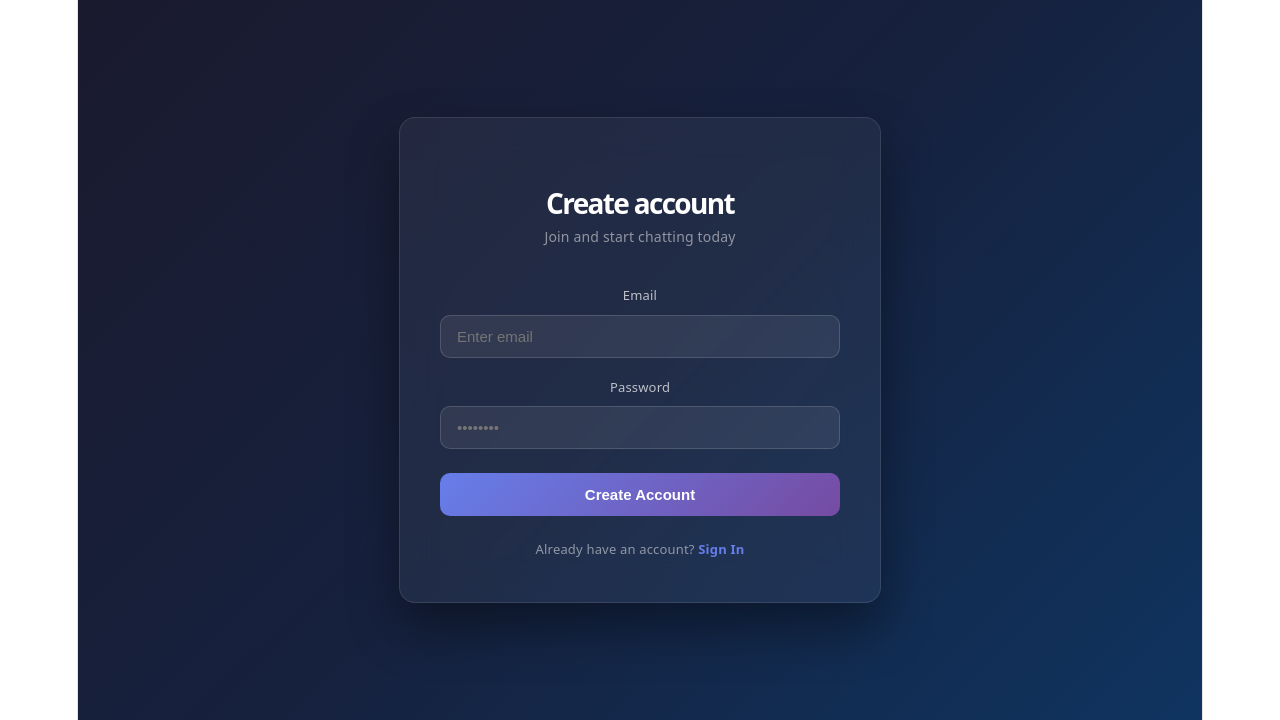
Security Tests › SQL injection: DROP TABLE payload in signup is handled gracefully
This screenshot has width=1280, height=720.
Type "'; DROP TABLE users; --" into the field with placeholder "Enter email" at (640, 336), box top-left (440, 314), bottom-right (840, 358)
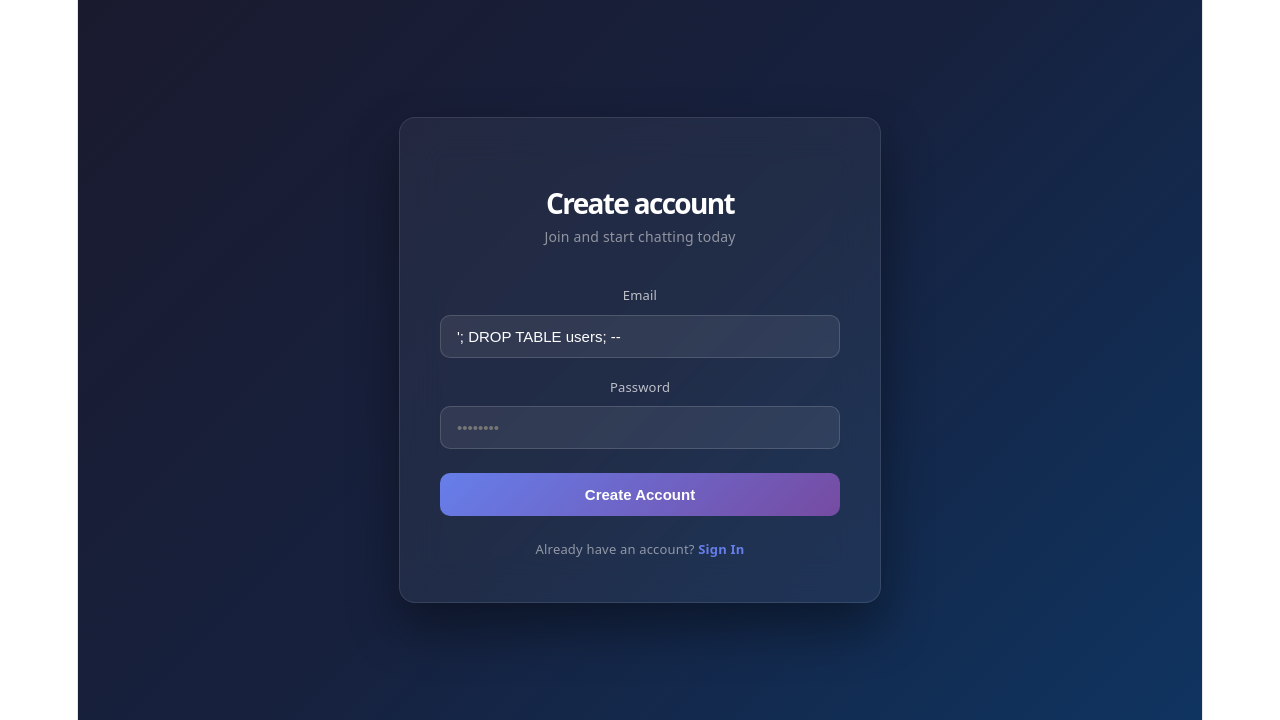
Type "password" into the password field with placeholder "••••••••" at (640, 427), box top-left (440, 406), bottom-right (840, 449)
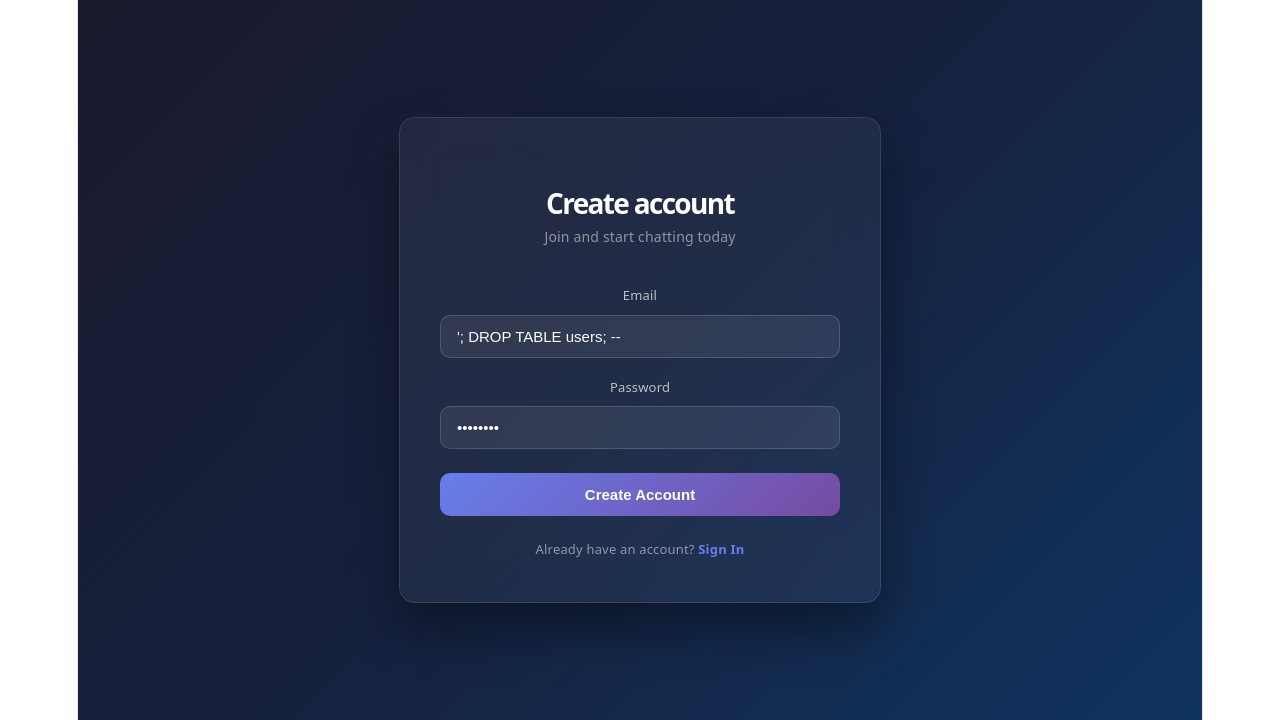
Click the button "Create Account" at (640, 494), box top-left (440, 473), bottom-right (840, 516)
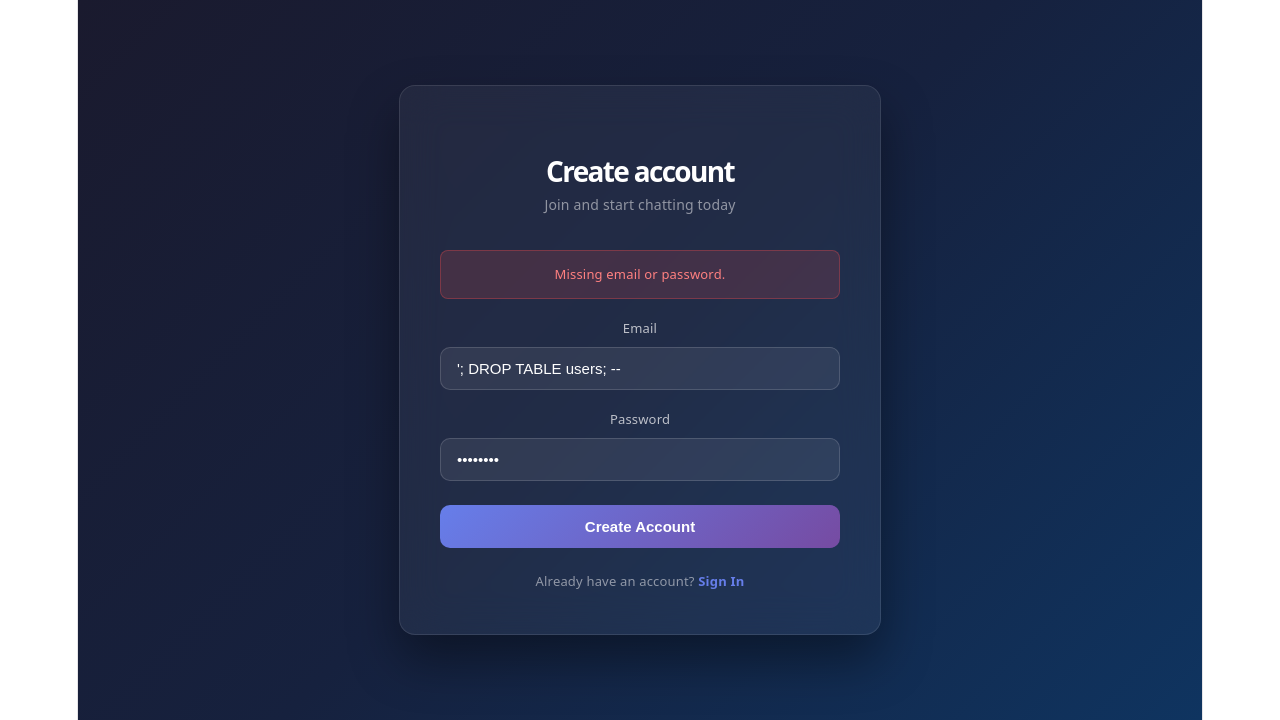
Result: the text "Missing email or password." is shown at top-left (440, 250), bottom-right (840, 298)
